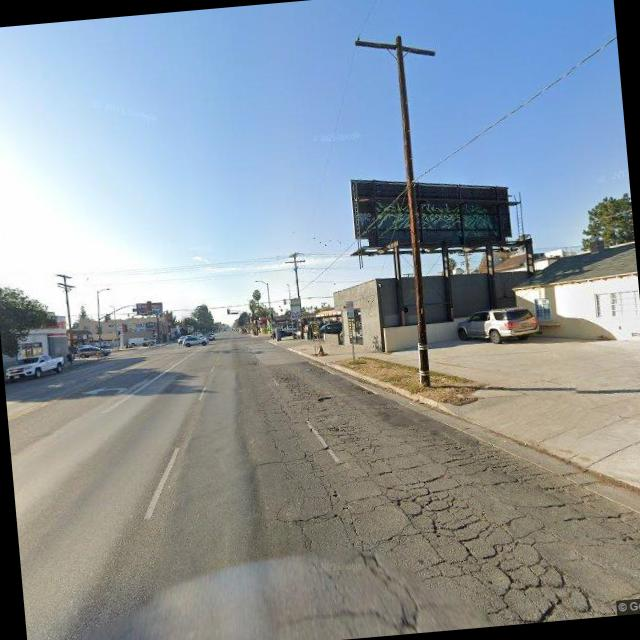crack: (253, 333, 640, 640)
